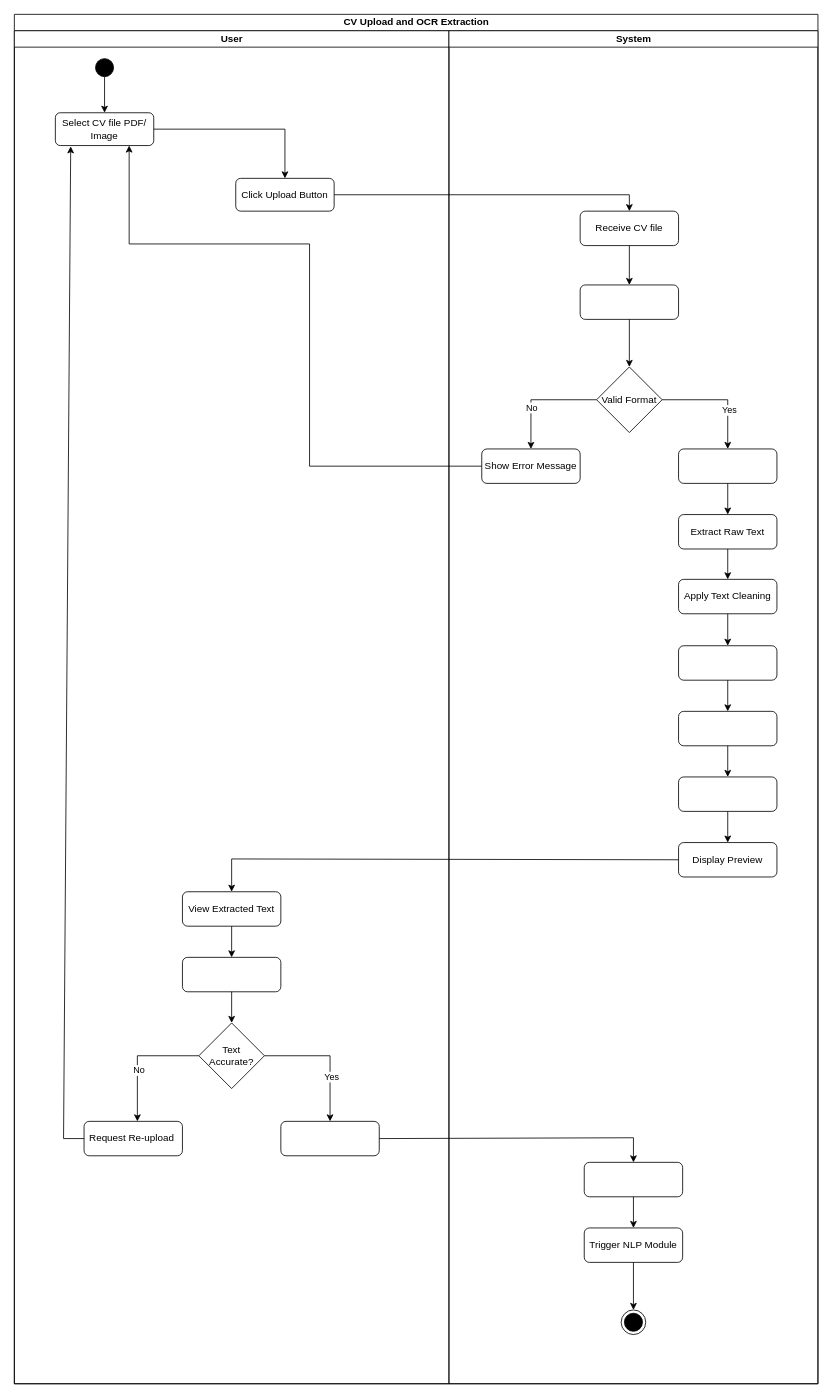
Some shapes in this 832 by 1398 pixel diagram are drawn without their labels. The shapes that lost their labels are listed below. From the top down, each one's centre as x and y in pixels, then its label:
the point at 629,301: Validate File Format
the point at 727,465: Applty OCR Engine (Tessaract)
the point at 727,662: Remove Special Characters
the point at 727,728: Normalize Whitespace
the point at 727,793: Store Cleaned Text
the point at 231,974: Review Cleaned Text
the point at 329,1138: Confirm and Password
the point at 633,1179: Save to Database
